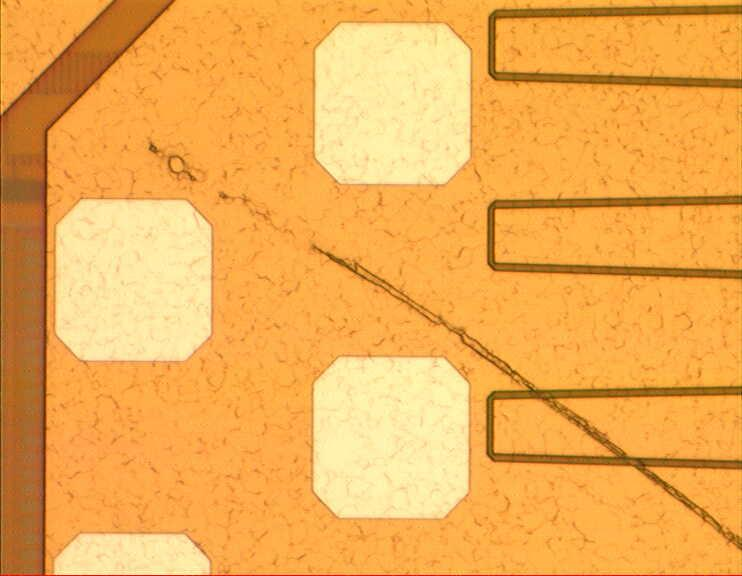SCRATCH: (141, 134, 742, 563)
